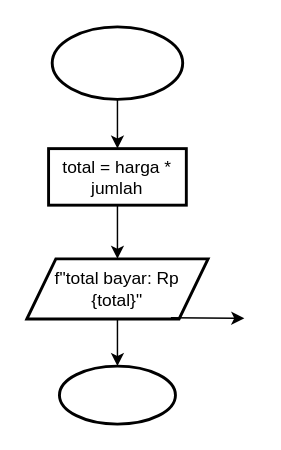
Some shapes in this 281 by 450 pixel diagram are drawn without their labels. Here are the shapes that lost their labels. From the top down, the centre of each, then its label:
At pixel 116 62: "totalbayar (harga,jumlah)".
At pixel 116 394: "end".
